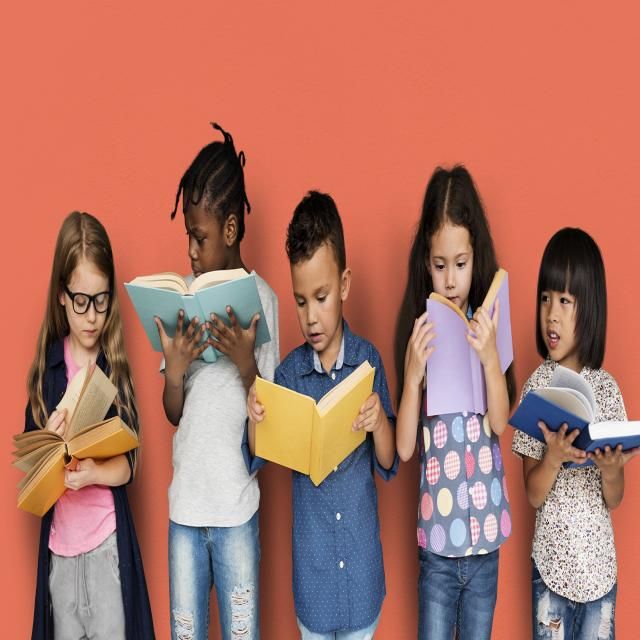child: (244, 190, 396, 640), (157, 125, 280, 640), (21, 210, 158, 640), (396, 158, 516, 640), (512, 227, 636, 640)
